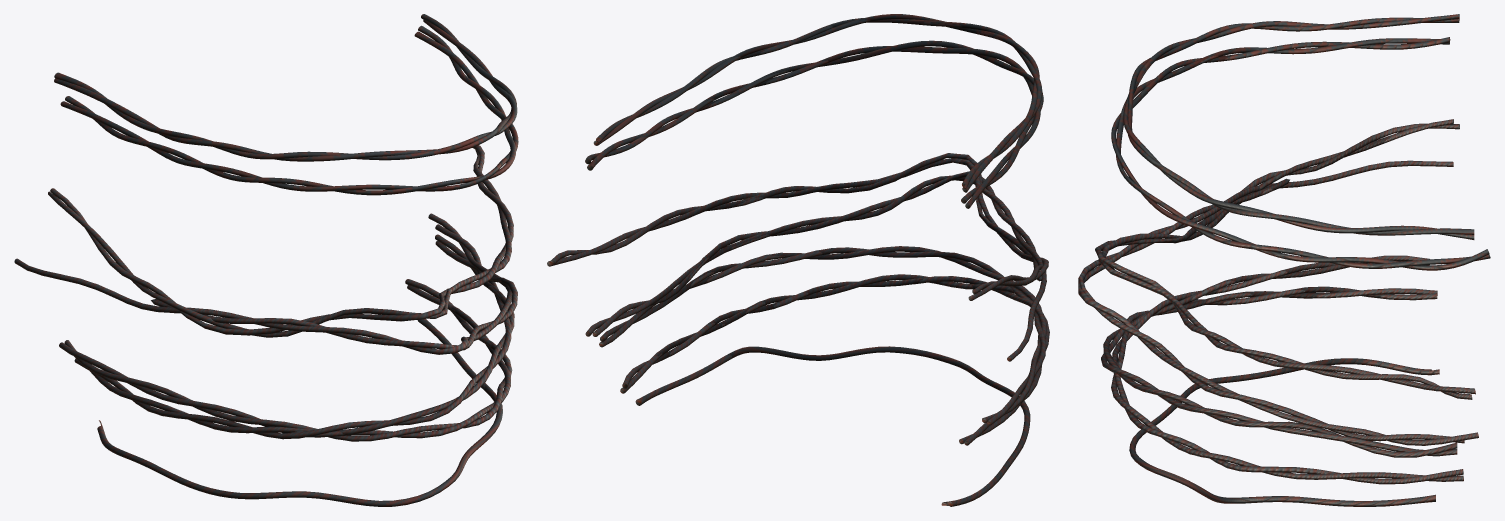
The model's file is string.FBX.
3 renders of one model, left to right at view 1: azimuth 30°, elevation 25°; view 2: azimuth 150°, elevation 25°; view 3: azimuth 270°, elevation 25°, orthographic. The views are drawn at different scales.
Parts seen in each view (by area): view 1: Cylinder006, Cylinder008, Cylinder005, Cylinder004, Cylinder003, Cylinder002; view 2: Cylinder006, Cylinder008, Cylinder005, Cylinder003, Cylinder004, Cylinder002; view 3: Cylinder006, Cylinder008, Cylinder003, Cylinder004, Cylinder005, Cylinder002.
Part boxes in pixels (x1,y1,x2,y2): Cylinder006: [54, 14, 518, 195]; Cylinder008: [48, 145, 513, 337]; Cylinder005: [59, 279, 512, 441]; Cylinder004: [74, 234, 514, 439]; Cylinder003: [14, 213, 517, 354]; Cylinder002: [97, 318, 502, 506]; Cylinder006: [585, 14, 1043, 208]; Cylinder008: [547, 153, 1048, 300]; Cylinder005: [620, 274, 1046, 425]; Cylinder003: [585, 171, 1046, 361]; Cylinder004: [599, 246, 1049, 445]; Cylinder002: [635, 346, 1030, 506]; Cylinder006: [1111, 14, 1490, 270]; Cylinder008: [1095, 119, 1475, 399]; Cylinder003: [1078, 160, 1478, 445]; Cylinder004: [1101, 286, 1457, 457]; Cylinder005: [1111, 255, 1463, 484]; Cylinder002: [1129, 358, 1439, 506].
Size of the model in its own units: 0.1246 by 0.0916 by 0.0957.
Materials: 2 (2 with a texture image).
